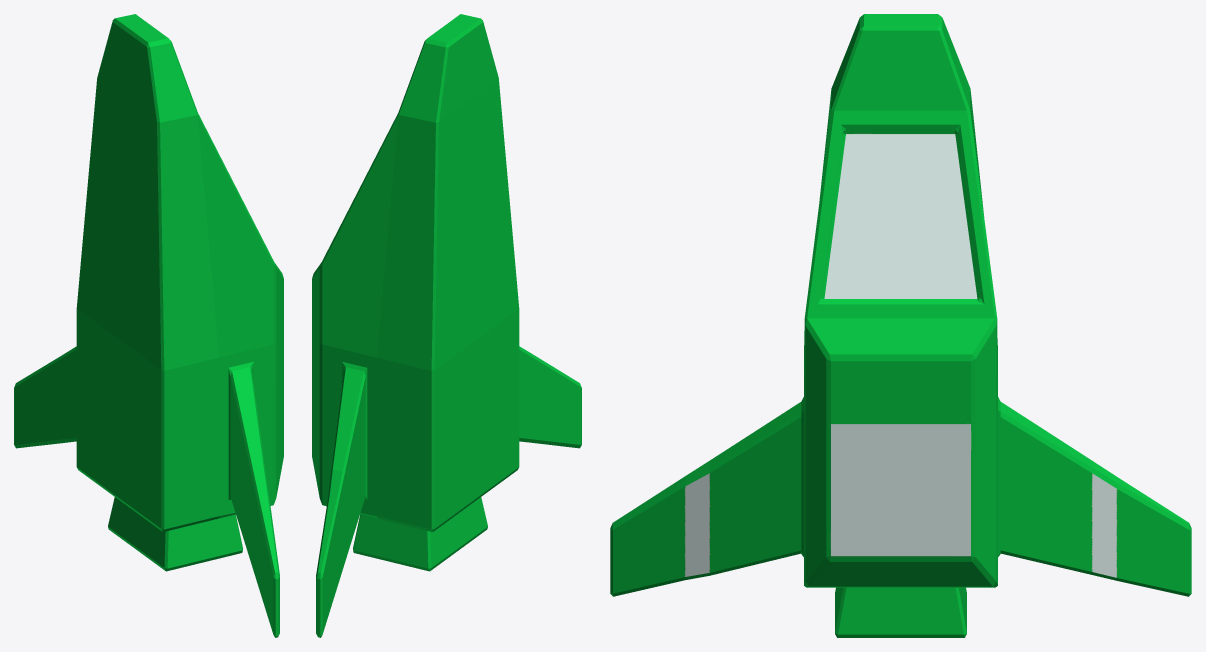
The model's file is GreenShip41.fbx.
3 renders of one model, left to right at view 1: azimuth 30°, elevation 25°; view 2: azimuth 150°, elevation 25°; view 3: azimuth 270°, elevation 25°, orthographic. The views are drawn at different scales.
Visible parts, largest first — view 1: Cube.004; view 2: Cube.004; view 3: Cube.004.
Part boxes in pixels (x1,y1,x2,y2): Cube.004: (14,14,283,637); Cube.004: (312,14,581,637); Cube.004: (610,14,1191,637).
Size of the model in its own units: 235 by 882 by 802.
1 material, 1 textured.
